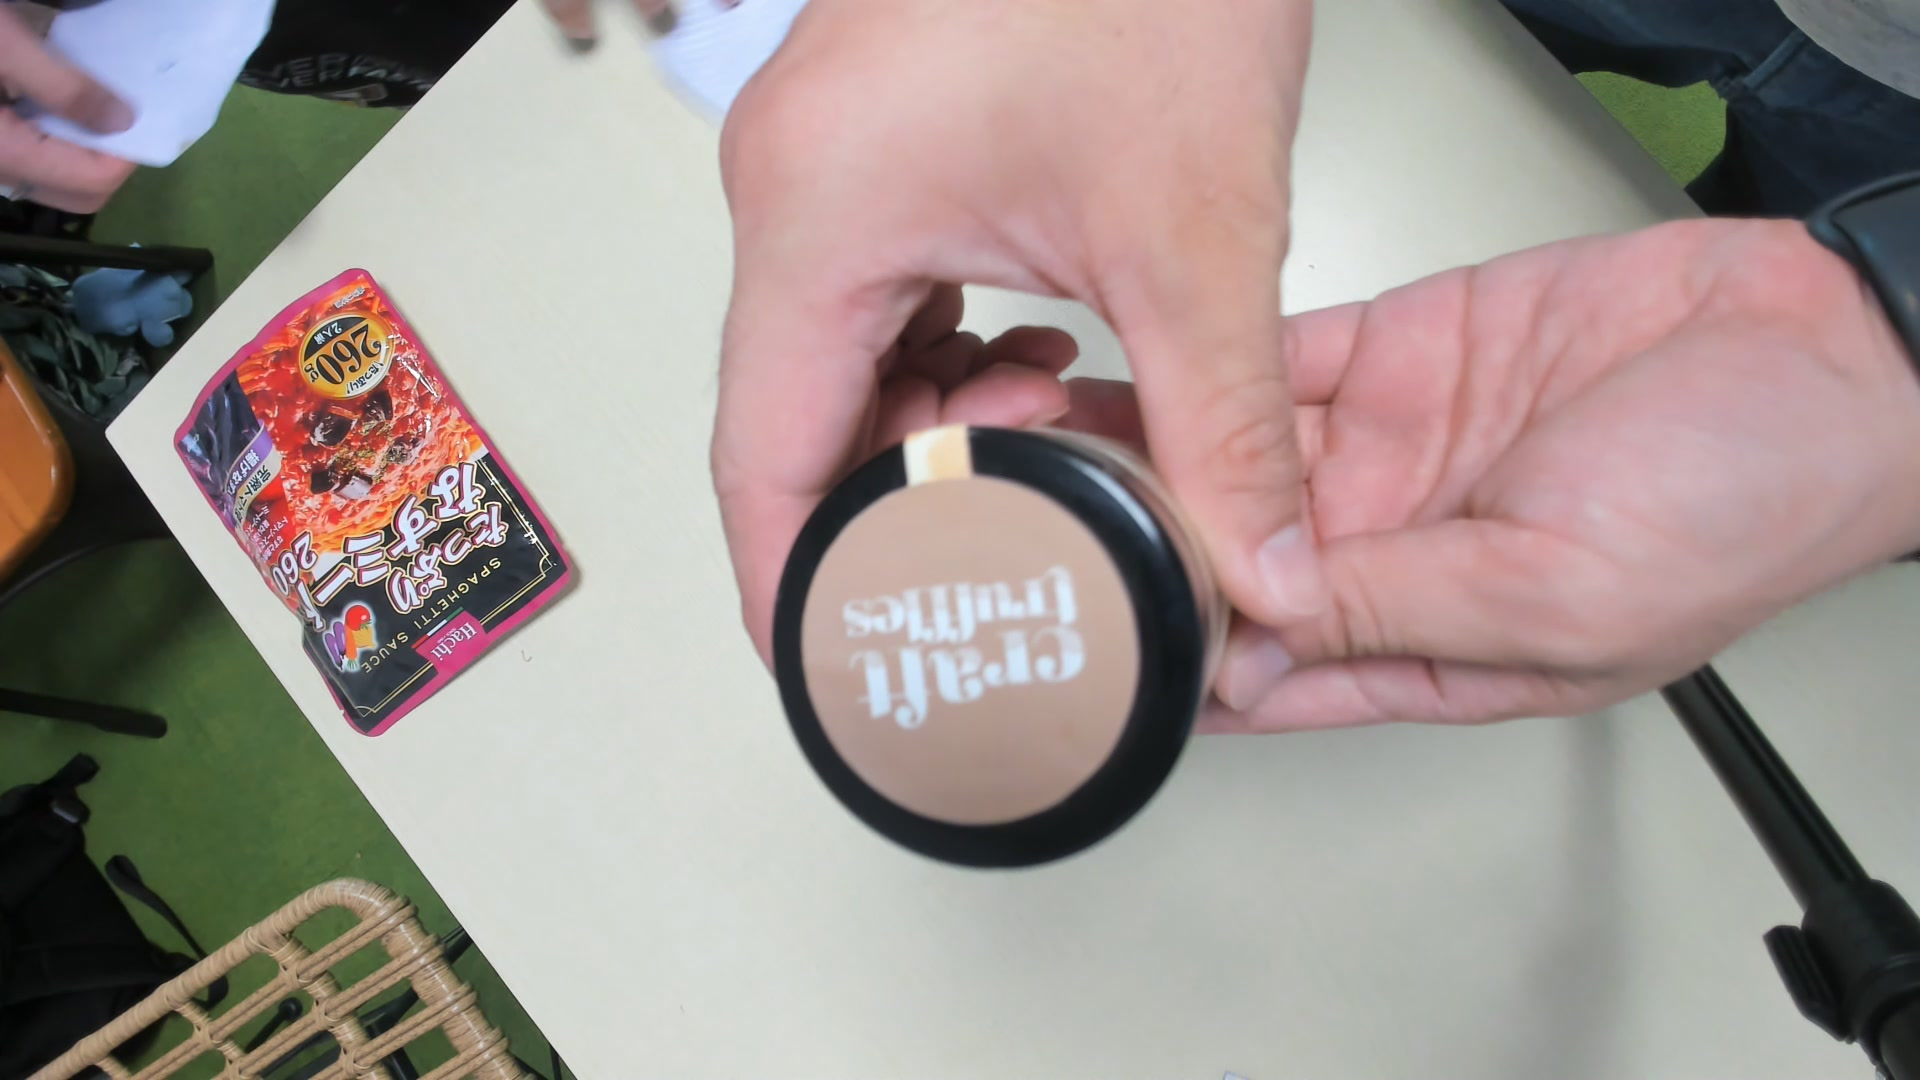PastaSauce_100-199g_Halal_NonHealthy: (781, 433, 1238, 869)
